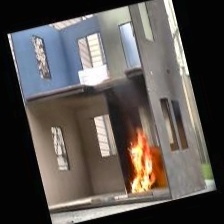fire: (118, 122, 174, 207)
